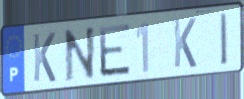1: (135, 20, 150, 75)
E: (97, 21, 133, 80)
I: (218, 11, 230, 69)
K: (31, 31, 58, 84), (172, 16, 198, 70)
N: (62, 24, 97, 84)
